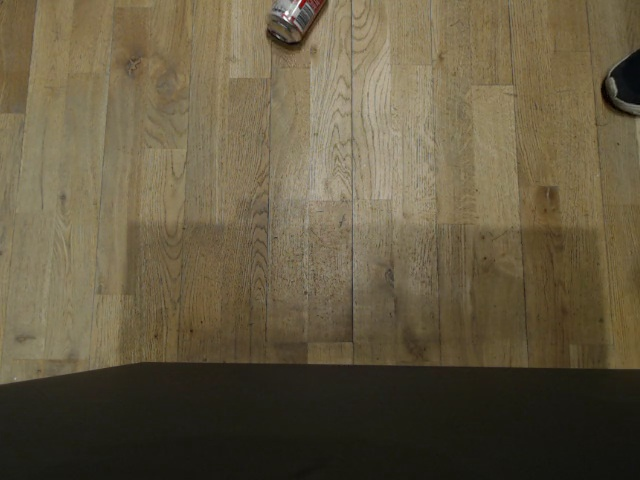cola: (265, 0, 327, 46)
